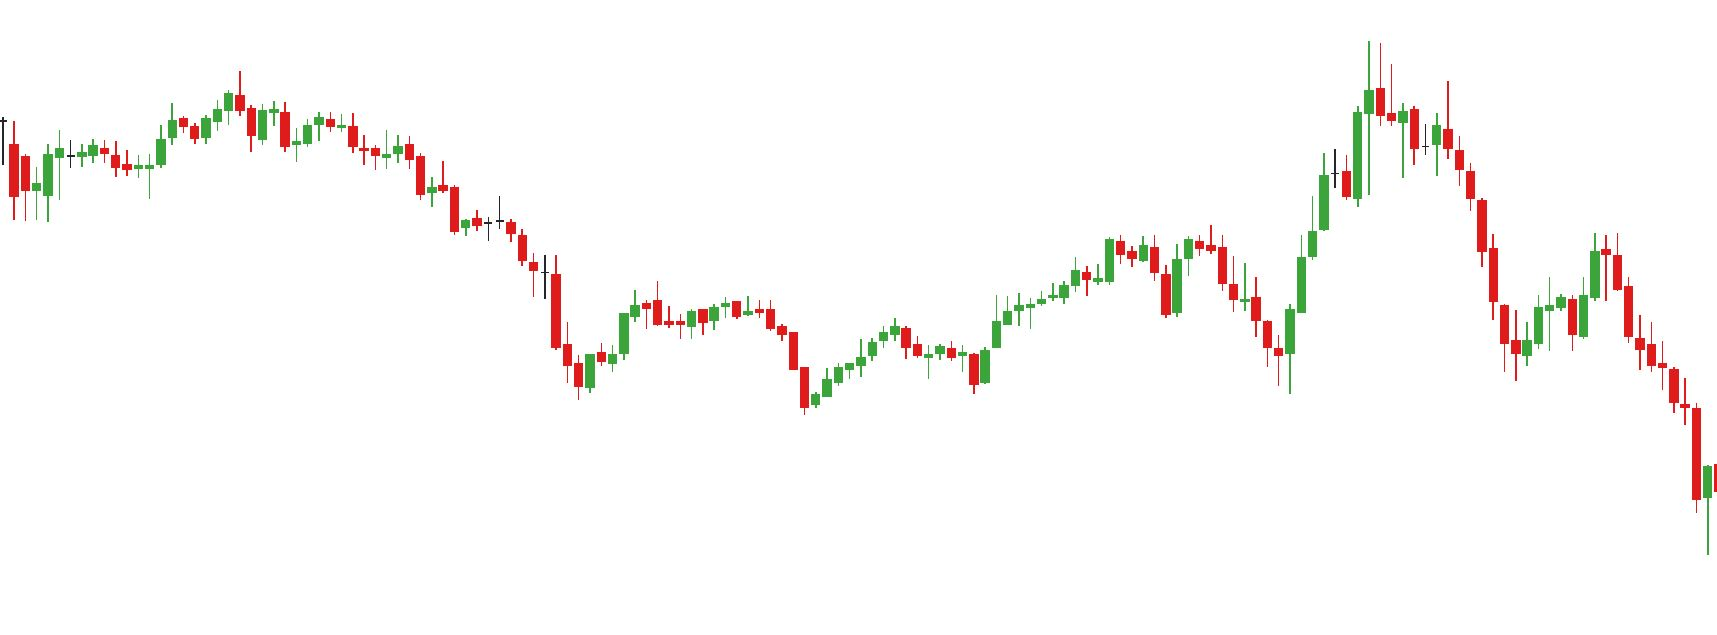buy: (572, 323, 822, 417), (921, 338, 993, 396)
sell: (1543, 235, 1622, 326)
